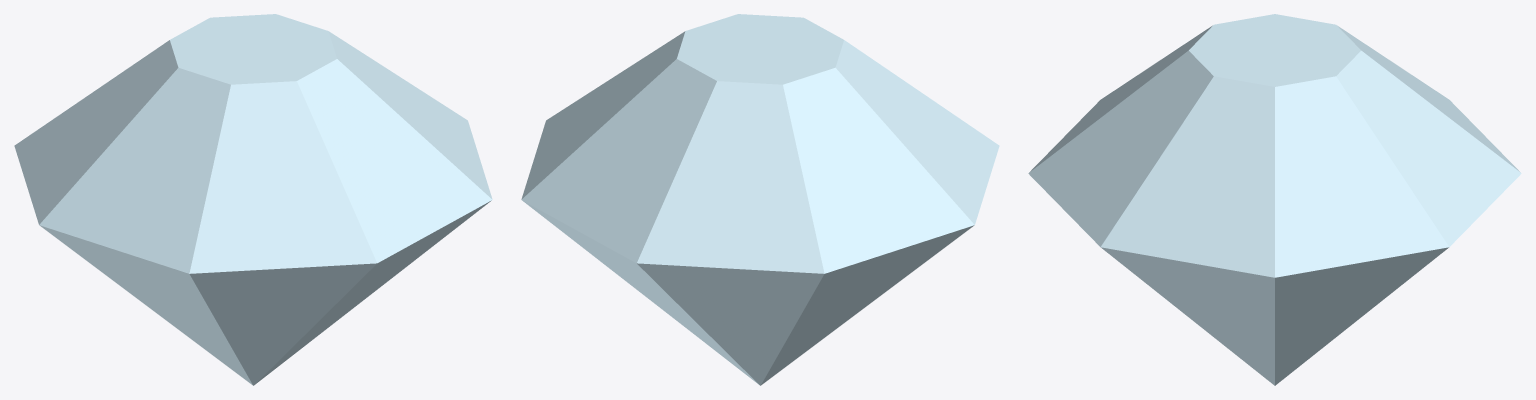
File: Diamond.fbx
3 views of the same model, side by side, from view 1: azimuth 30°, elevation 25°; view 2: azimuth 150°, elevation 25°; view 3: azimuth 270°, elevation 25° (orthographic).
Parts seen in each view (by area): view 1: Diamond; view 2: Diamond; view 3: Diamond.
Boxes of the visible parts, box(x1,y1,x2,y2) form: Diamond: box(14, 14, 492, 385); Diamond: box(521, 14, 999, 385); Diamond: box(1028, 14, 1521, 385).
Bounding box in the file's own units: 200 × 150 × 200.
